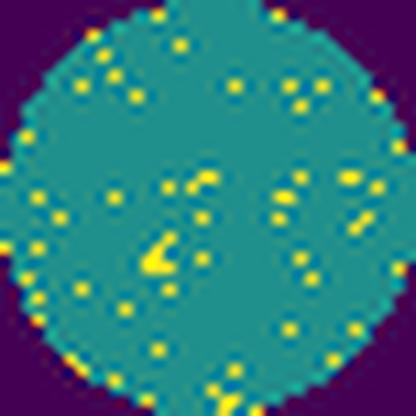Edge-Loc: (136, 229, 181, 280)
